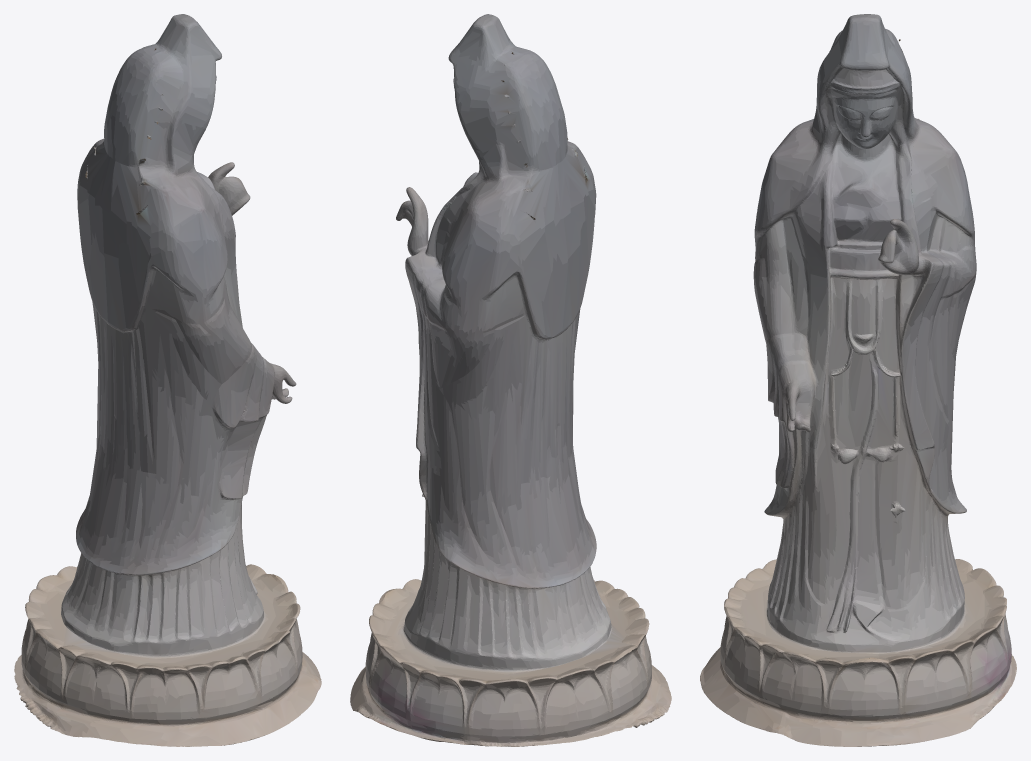
Rendered from kannon 1.fbx.
The picture shows the model from 3 angles, left to right: view 1: azimuth 30°, elevation 25°; view 2: azimuth 150°, elevation 25°; view 3: azimuth 270°, elevation 25°; orthographic projection. The views are drawn at different scales.
Visible parts, largest first — view 1: tripo_node_493a6435-343a-4900-aed3-adc822432c99; view 2: tripo_node_493a6435-343a-4900-aed3-adc822432c99; view 3: tripo_node_493a6435-343a-4900-aed3-adc822432c99.
Boxes of the visible parts, <box> form: tripo_node_493a6435-343a-4900-aed3-adc822432c99: <box>14,14,321,746</box>; tripo_node_493a6435-343a-4900-aed3-adc822432c99: <box>350,14,671,746</box>; tripo_node_493a6435-343a-4900-aed3-adc822432c99: <box>700,14,1016,746</box>.
Size of the model in its own units: 448 by 1036 by 440.
